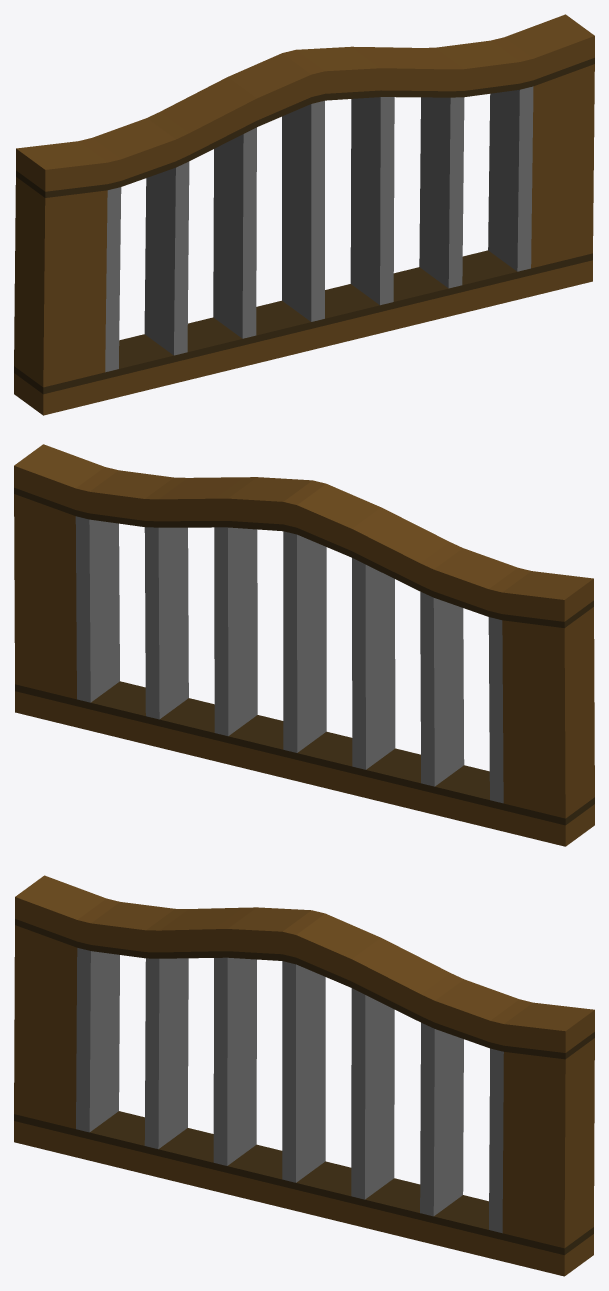
The model's file is Gates.fbx.
3 renders of one model, top to bottom at view 1: azimuth 30°, elevation 25°; view 2: azimuth 150°, elevation 25°; view 3: azimuth 330°, elevation 25°, orthographic.
Parts seen in each view (by area): view 1: Plane; view 2: Plane; view 3: Plane.
Boxes of the visible parts, x1,y1,x2,y2 form: Plane: (14, 14, 594, 415); Plane: (14, 444, 594, 846); Plane: (14, 875, 594, 1276).
Size of the model in its own units: 8.03 by 0.7549 by 3.84.
